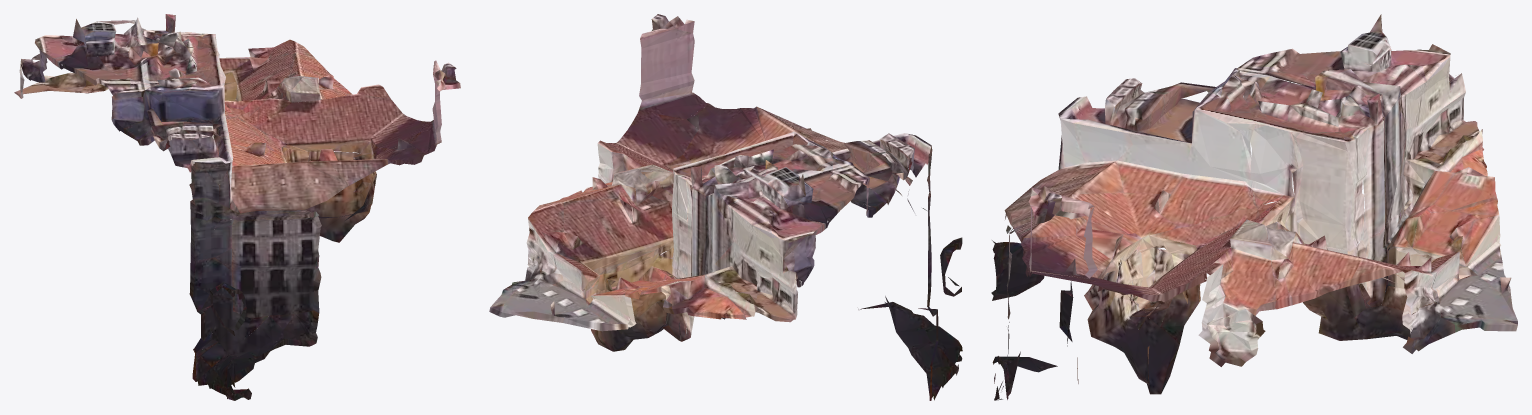
3 renders of one model, left to right at view 1: azimuth 30°, elevation 25°; view 2: azimuth 150°, elevation 25°; view 3: azimuth 270°, elevation 25°, orthographic. The views are drawn at different scales.
Parts seen in each view (by area): view 1: Mesh_0; view 2: Mesh_0; view 3: Mesh_0.
Boxes of the visible parts, x1,y1,x2,y2 form: Mesh_0: (14,14,460,400); Mesh_0: (489,14,962,400); Mesh_0: (991,14,1517,400).
Size of the model in its own units: 33.3 by 32.24 by 41.33.
Materials: 2 (2 with a texture image).
